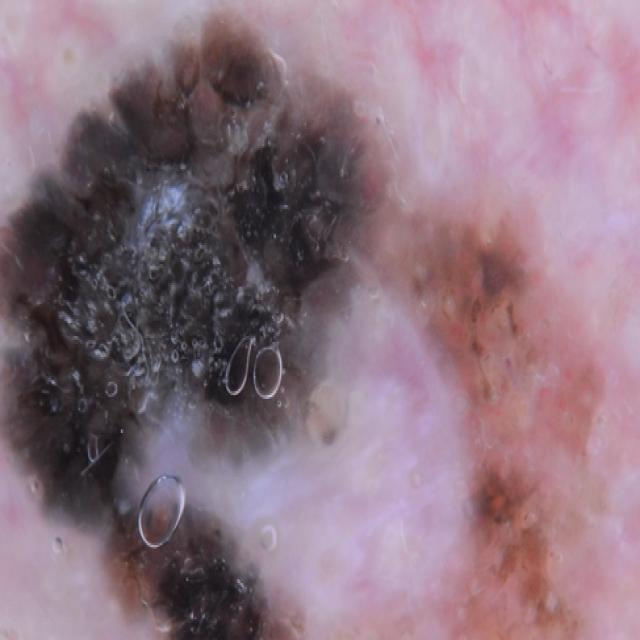Keratosis: (0, 24, 348, 395), (404, 230, 632, 640), (111, 494, 291, 640)
